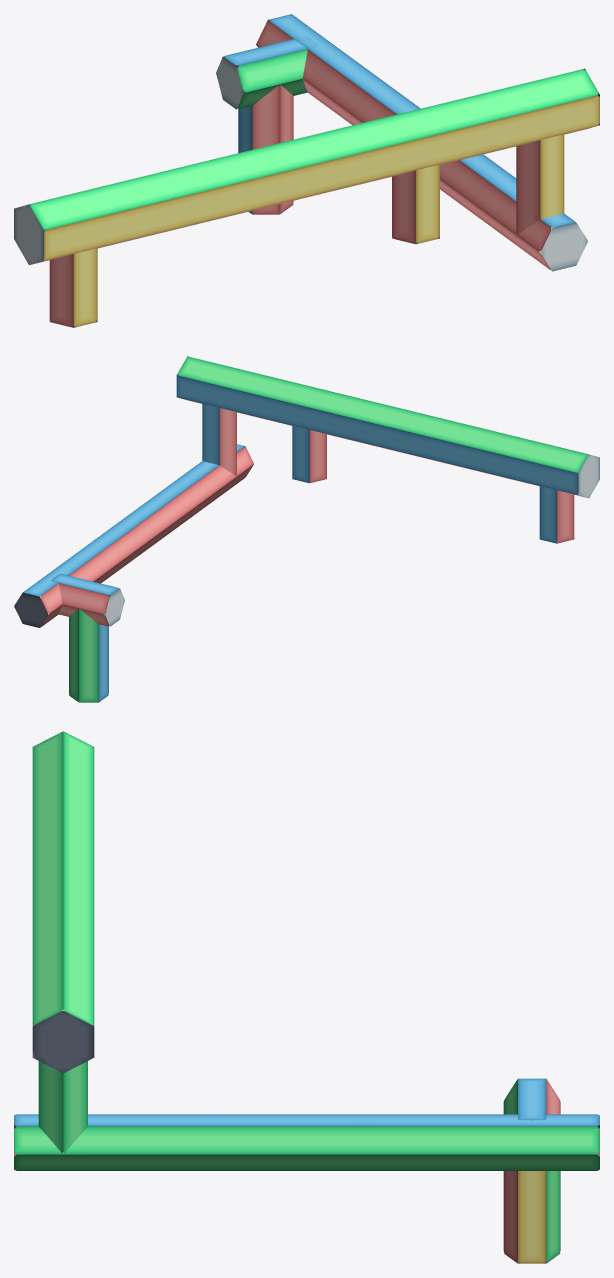
The model's file is pipes.obj.
3 renders of one model, top to bottom at view 1: azimuth 30°, elevation 25°; view 2: azimuth 150°, elevation 25°; view 3: azimuth 270°, elevation 25°, orthographic. The views are drawn at different scales.
Parts seen in each view (by area): view 1: cylinder; view 2: cylinder; view 3: cylinder.
Part boxes in pixels (x1,y1,x2,y2): cylinder: (14,14,599,327); cylinder: (14,356,599,702); cylinder: (14,731,599,1263).
Bounding box in the file's own units: 3.35 × 1.61 × 2.97.
1 material, 1 textured.
